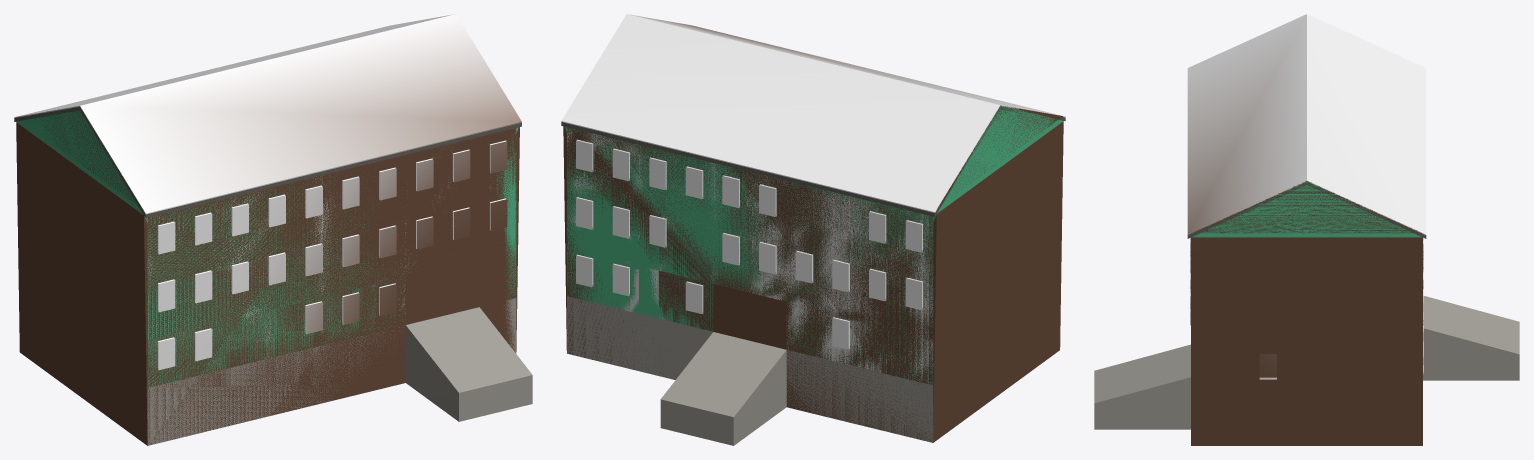
File: eca_bld_warehouse_01_a.dae
3 views of the same model, side by side, from view 1: azimuth 30°, elevation 25°; view 2: azimuth 150°, elevation 25°; view 3: azimuth 270°, elevation 25° (orthographic). The views are drawn at different scales.
Visible parts, largest first — view 1: ind_bld_a120, ind_bld_a60, Colmesh-1, ind_bld_a650; view 2: ind_bld_a120, ind_bld_a60, Colmesh-1, ind_bld_a650; view 3: ind_bld_a120, ind_bld_a60, Colmesh-1.
Part boxes in pixels (x1=…): ind_bld_a120: x1=14, y1=14, x2=532, y2=445; ind_bld_a60: x1=16, y1=106, x2=519, y2=445; Colmesh-1: x1=16, y1=106, x2=518, y2=387; ind_bld_a650: x1=147, y1=129, x2=516, y2=386; ind_bld_a120: x1=561, y1=14, x2=1065, y2=445; ind_bld_a60: x1=563, y1=106, x2=1063, y2=442; Colmesh-1: x1=565, y1=105, x2=1063, y2=384; ind_bld_a650: x1=567, y1=128, x2=933, y2=384; ind_bld_a120: x1=1094, y1=14, x2=1519, y2=429; ind_bld_a60: x1=1191, y1=181, x2=1422, y2=445; Colmesh-1: x1=1191, y1=180, x2=1422, y2=237.
Bounding box in the file's own units: 20.4 × 22 × 15.25.
